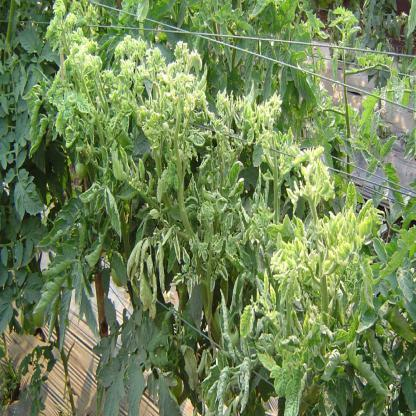Tomato leaf: (282, 366, 308, 416), (154, 156, 182, 199), (104, 188, 122, 239), (239, 302, 254, 336), (280, 244, 292, 282), (226, 162, 242, 190), (340, 214, 350, 258), (357, 210, 370, 243), (62, 128, 83, 147), (179, 246, 190, 282), (213, 196, 229, 214), (299, 240, 309, 268), (213, 236, 225, 258), (219, 266, 228, 283), (211, 267, 215, 303), (193, 254, 198, 274), (202, 246, 207, 264), (323, 224, 328, 240)
